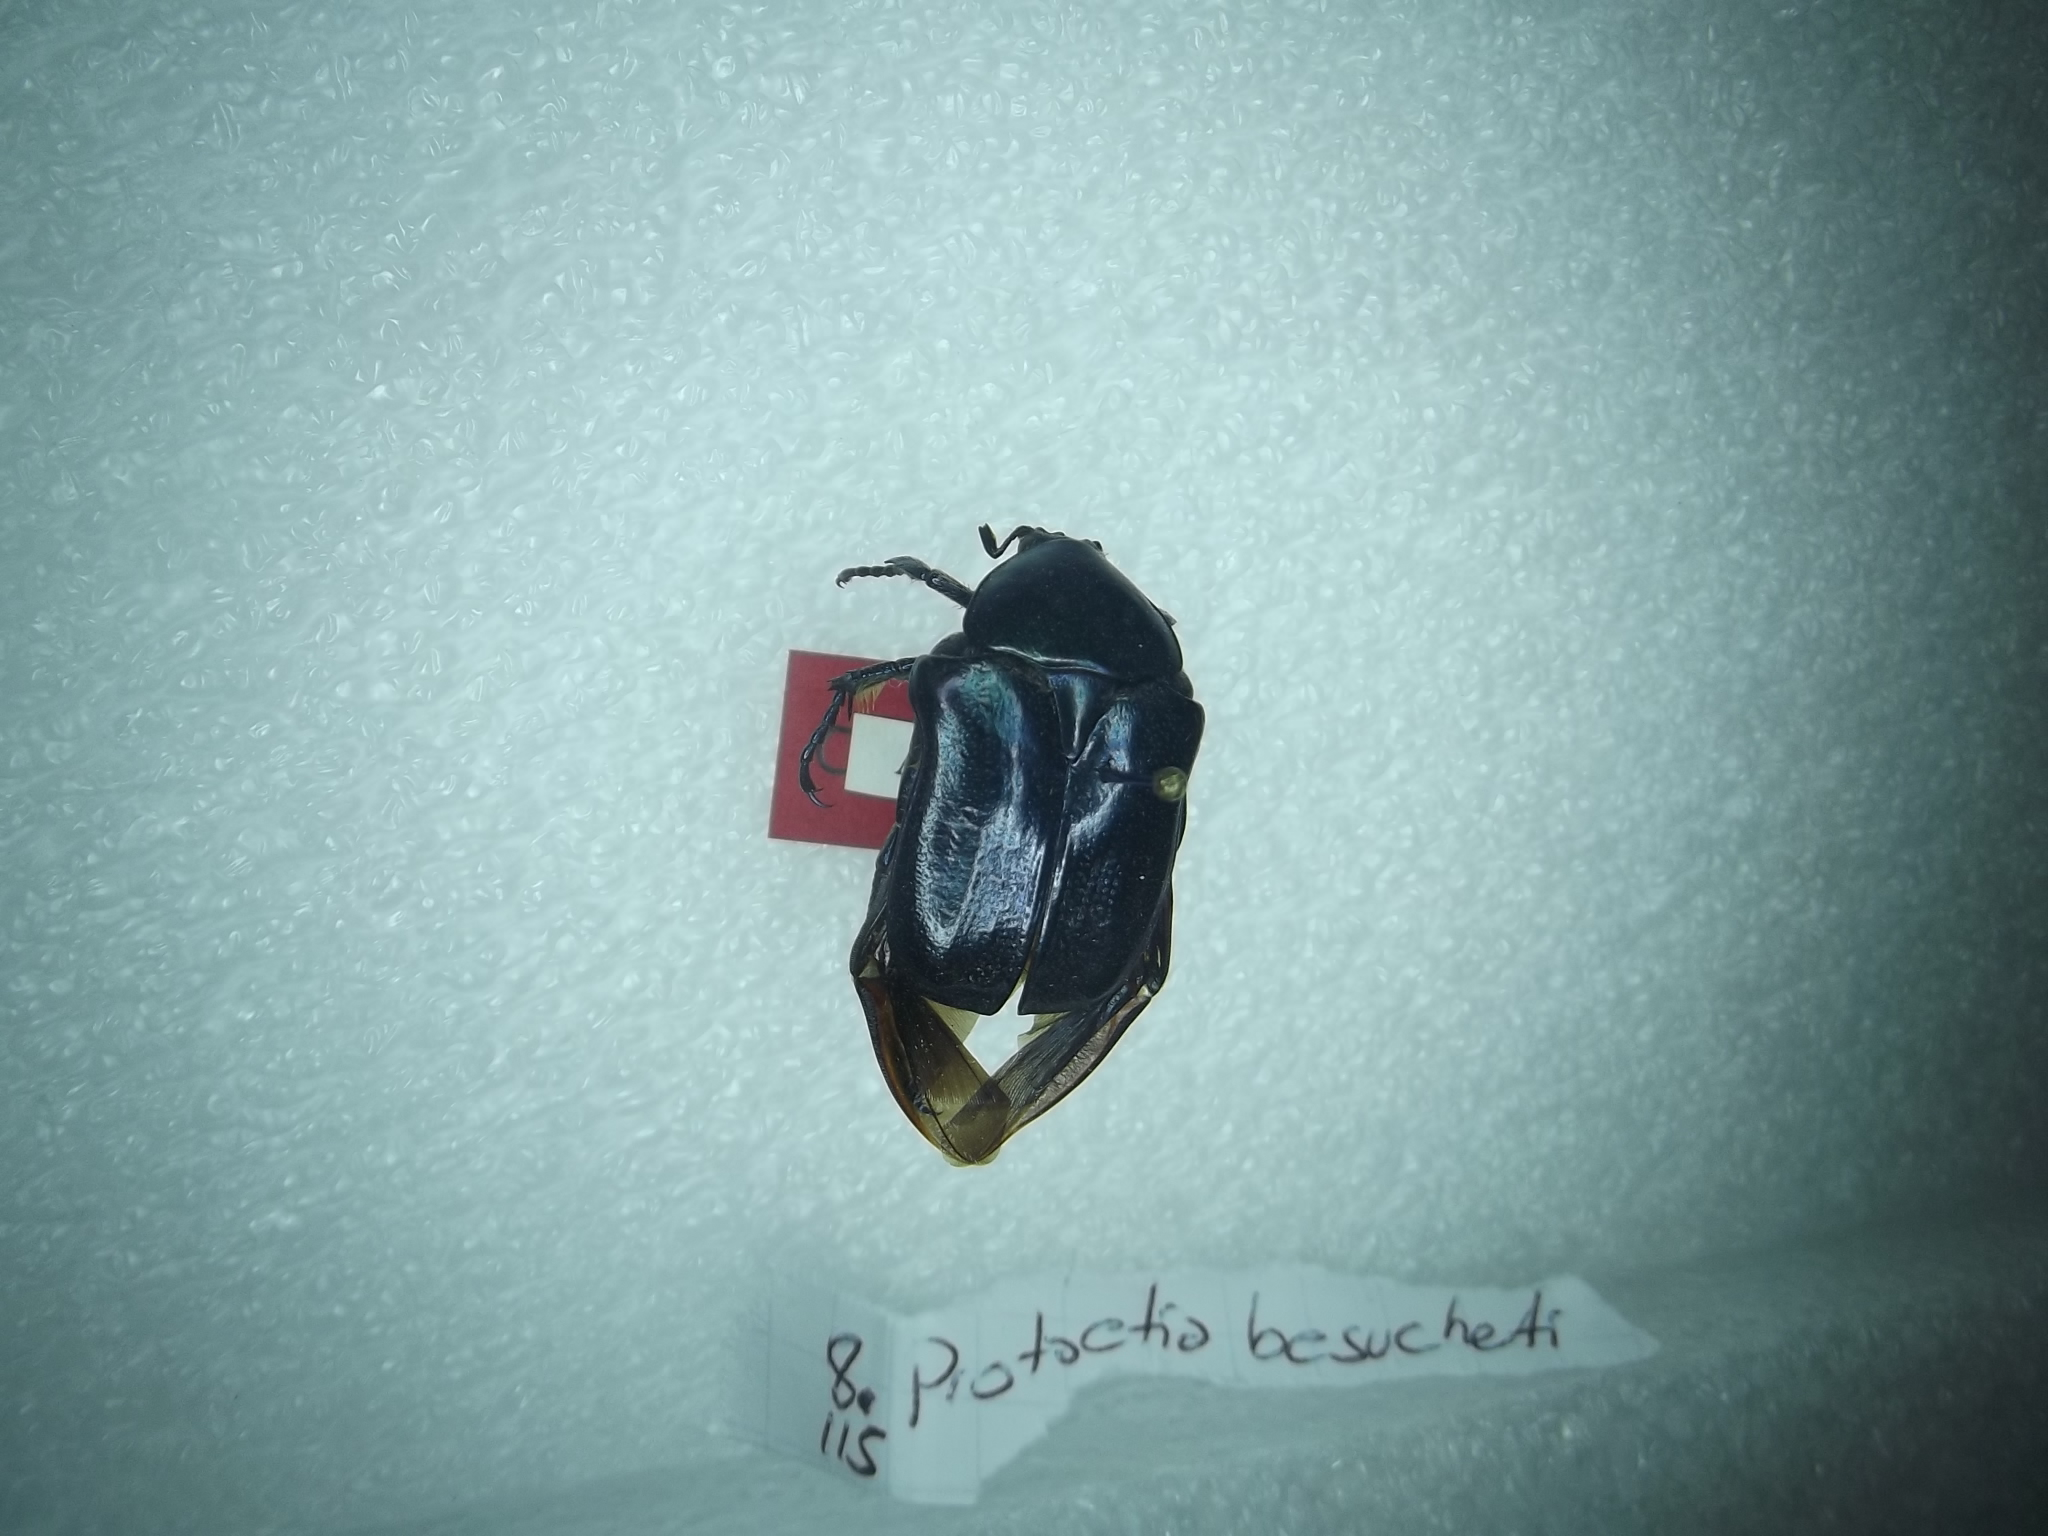Protaetia_besucheti: (792, 490, 1218, 1168)
